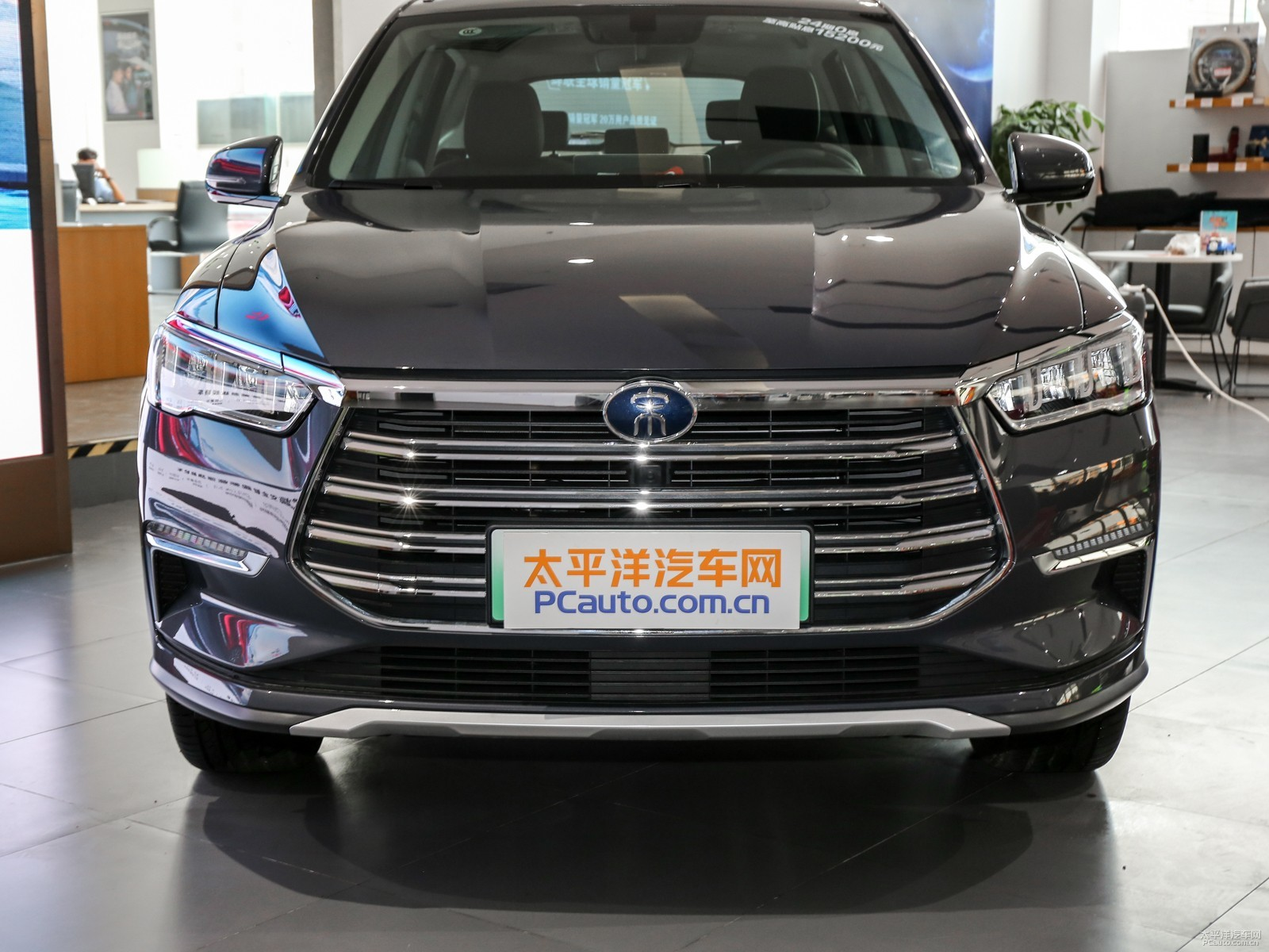BYD Song: (604, 382, 696, 444)
